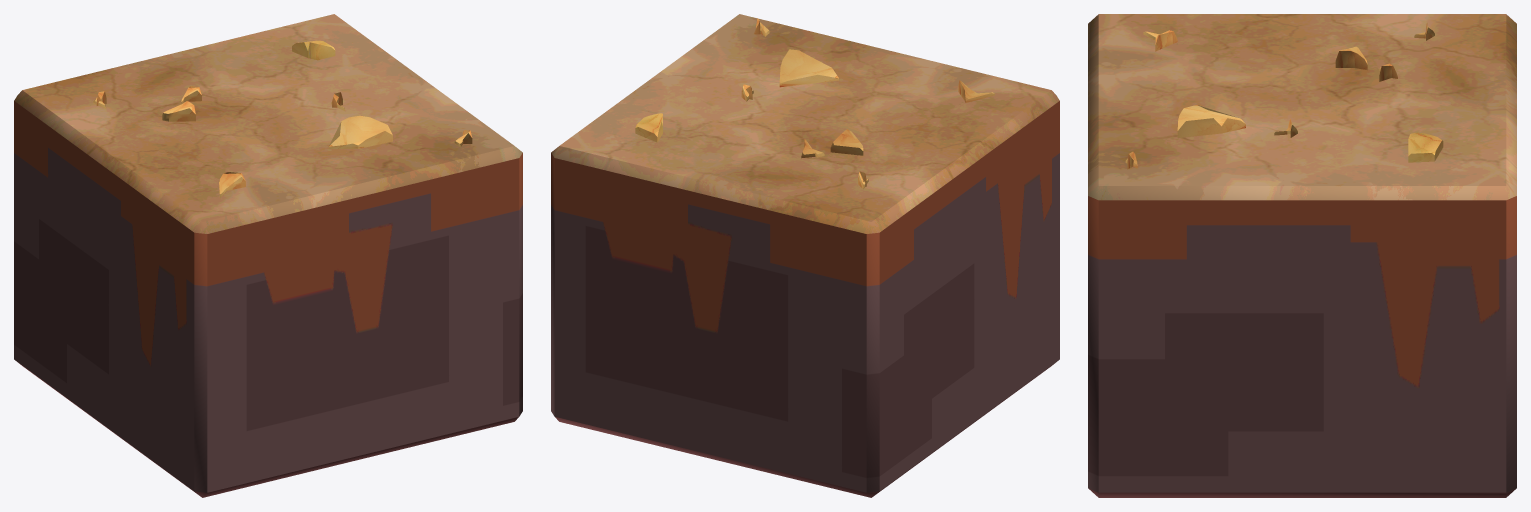
Rendered from tiledesert002.glb.
3 views of the same model, side by side, from view 1: azimuth 30°, elevation 25°; view 2: azimuth 150°, elevation 25°; view 3: azimuth 270°, elevation 25° (orthographic). The views are drawn at different scales.
Parts seen in each view (by area): view 1: tiledesert002.001; view 2: tiledesert002.001; view 3: tiledesert002.001.
Boxes of the visible parts, x1=… form: tiledesert002.001: x1=14, y1=14, x2=522, y2=497; tiledesert002.001: x1=551, y1=14, x2=1059, y2=497; tiledesert002.001: x1=1088, y1=14, x2=1516, y2=497.
Size of the model in its own units: 1 by 0.8499 by 1.
Materials: 2 (2 with a texture image).
